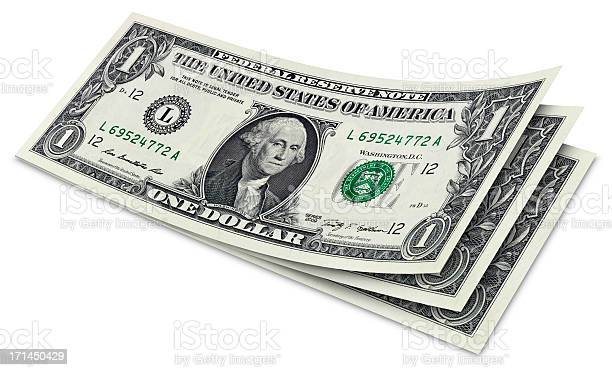cash: (16, 11, 562, 272)
